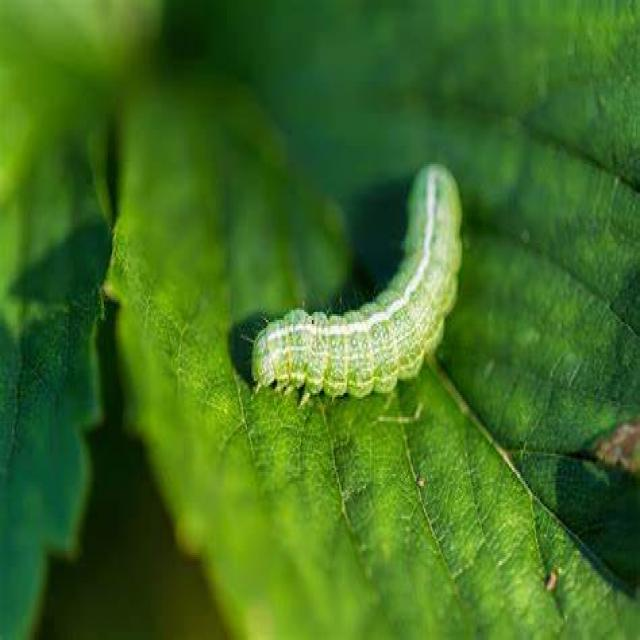looper: (245, 145, 472, 420)
